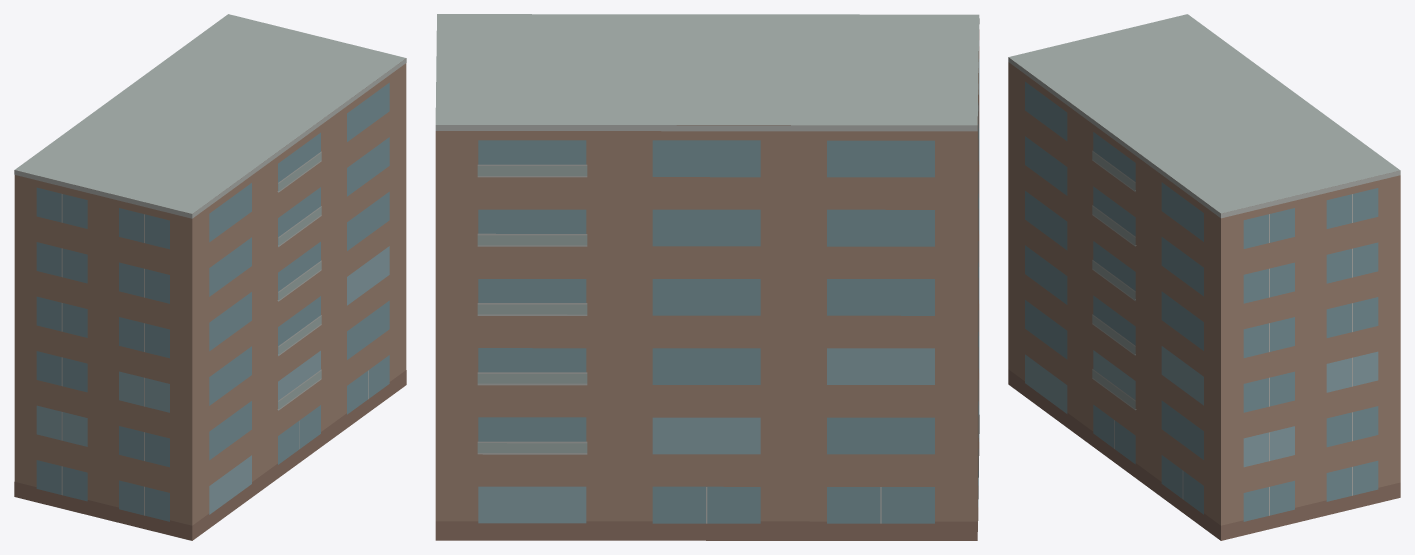
File: survey-upis-32641254.glb
3 renders of one model, left to right at view 1: azimuth 30°, elevation 25°; view 2: azimuth 150°, elevation 25°; view 3: azimuth 270°, elevation 25°, orthographic. The views are drawn at different scales.
Visible parts, largest first — view 1: survey-upis-32641254.tmp; view 2: survey-upis-32641254.tmp; view 3: survey-upis-32641254.tmp.
Boxes of the visible parts, left/top/right/bottom form: survey-upis-32641254.tmp: left=14, top=14, right=406, bottom=540; survey-upis-32641254.tmp: left=435, top=14, right=979, bottom=540; survey-upis-32641254.tmp: left=1008, top=14, right=1400, bottom=540.
Bounding box in the file's own units: 21.72 × 16.6 × 18.03.
